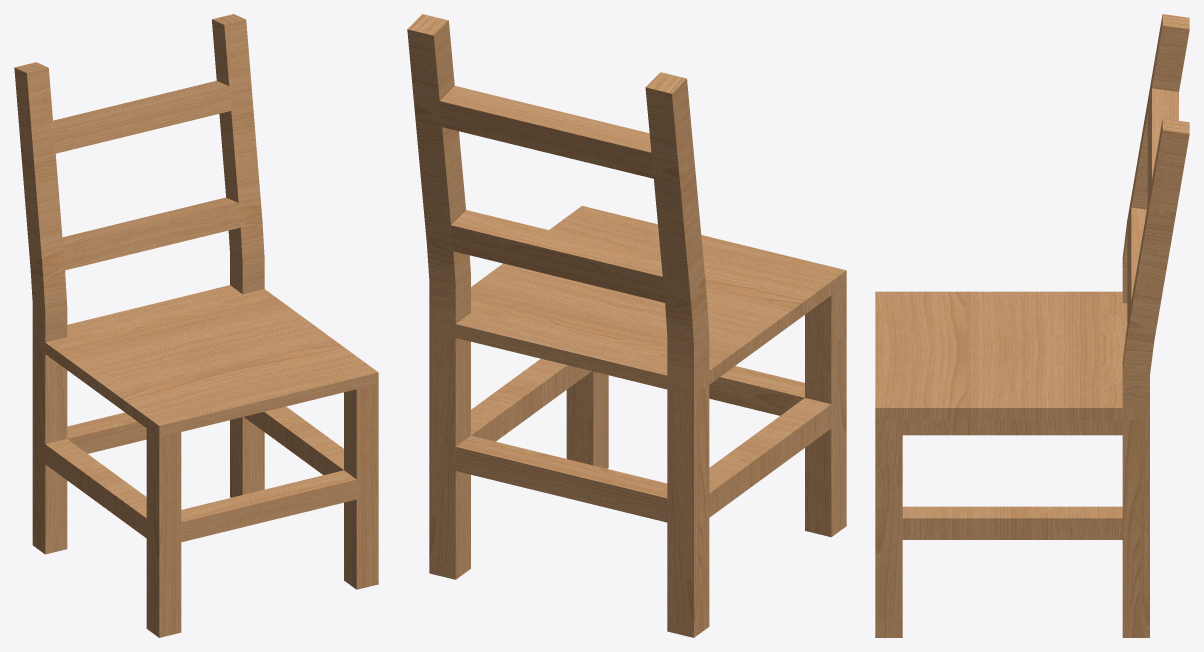
The model's file is chair_base_origin.fbx.
3 views of the same model, side by side, from view 1: azimuth 30°, elevation 25°; view 2: azimuth 150°, elevation 25°; view 3: azimuth 270°, elevation 25° (orthographic). The views are drawn at different scales.
Parts seen in each view (by area): view 1: Chair_base_origin; view 2: Chair_base_origin; view 3: Chair_base_origin.
Boxes of the visible parts, x1=… form: Chair_base_origin: x1=14, y1=14, x2=378, y2=637; Chair_base_origin: x1=407, y1=14, x2=846, y2=637; Chair_base_origin: x1=875, y1=14, x2=1189, y2=637.
Size of the model in its own units: 49.22 by 100 by 56.31.
